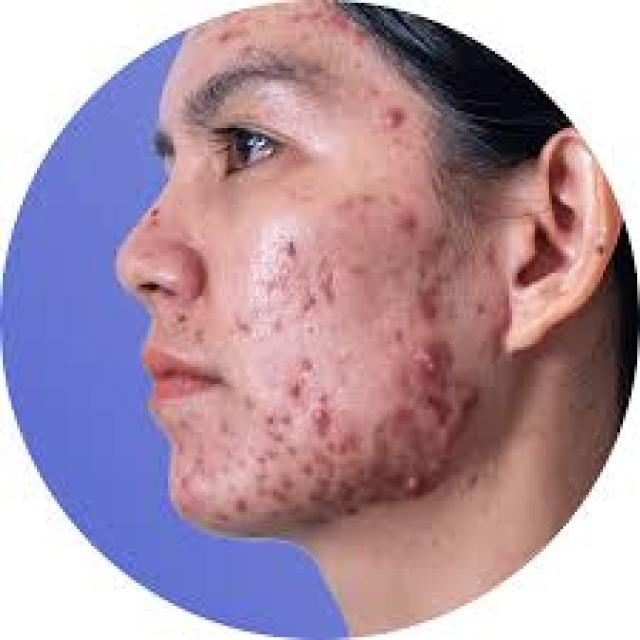Acne: (270, 253, 483, 526), (380, 96, 416, 177)
